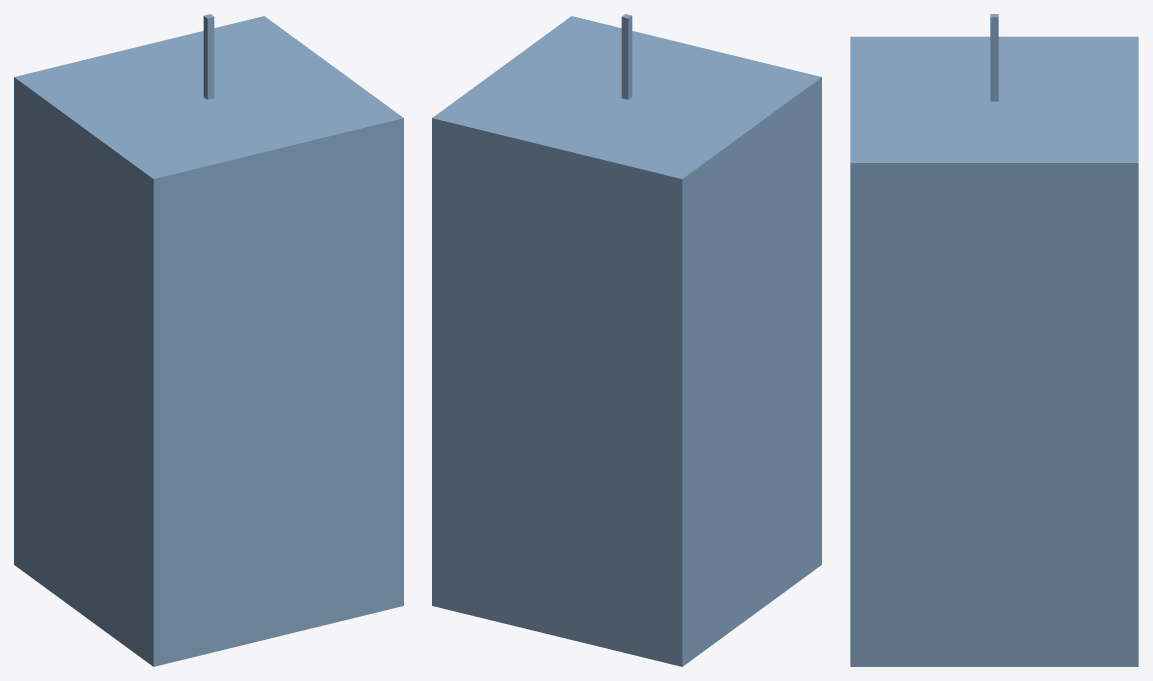
Rendered from tower2_plain.glb.
3 renders of one model, left to right at view 1: azimuth 30°, elevation 25°; view 2: azimuth 150°, elevation 25°; view 3: azimuth 270°, elevation 25°, orthographic. The views are drawn at different scales.
Parts seen in each view (by area): view 1: tower2_plain; view 2: tower2_plain; view 3: tower2_plain.
Part boxes in pixels (<box>): tower2_plain: <box>14,14,403,666</box>; tower2_plain: <box>432,14,821,666</box>; tower2_plain: <box>850,14,1138,666</box>.
Size of the model in its own units: 1.45 by 3.15 by 1.4.
